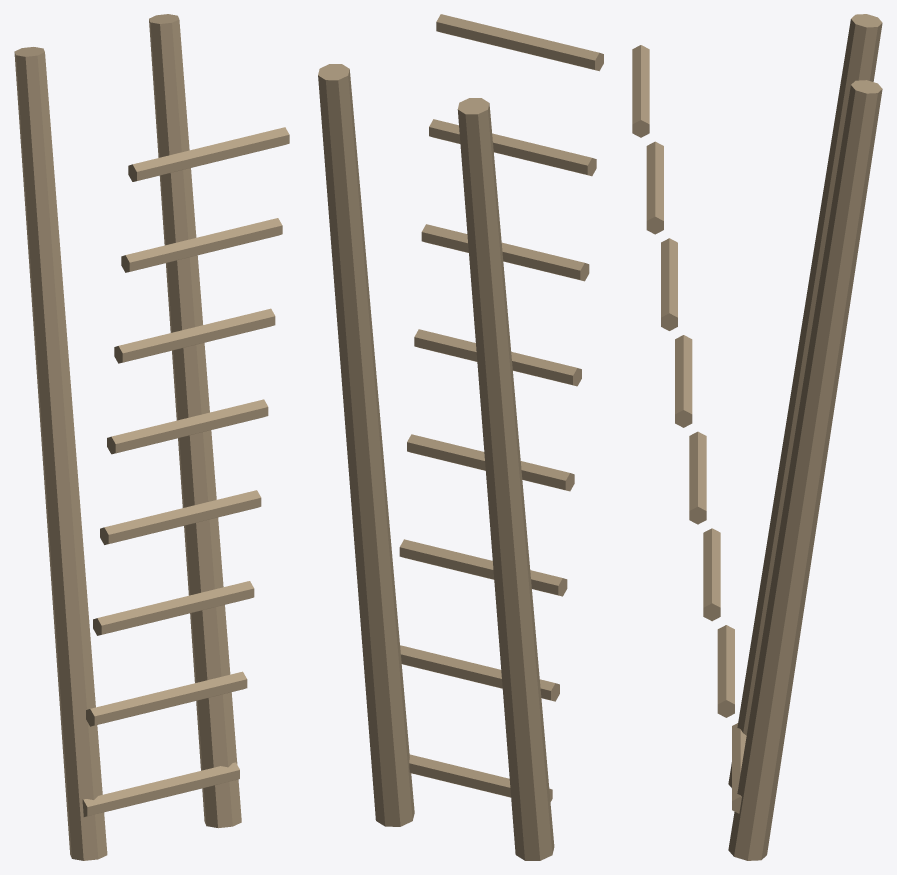
The model's file is trench-line-1917-trench-ladder-54733b86__24049.glb.
3 views of the same model, side by side, from view 1: azimuth 30°, elevation 25°; view 2: azimuth 150°, elevation 25°; view 3: azimuth 270°, elevation 25° (orthographic). The views are drawn at different scales.
Visible parts, largest first — view 1: trench-ladder; view 2: trench-ladder; view 3: trench-ladder.
Boxes of the visible parts, x1,y1,x2,y2 form: trench-ladder: (14,14,289,860); trench-ladder: (318,14,603,860); trench-ladder: (632,14,882,860).
Bounding box in the file's own units: 0.5501 × 2.39 × 0.7036.
